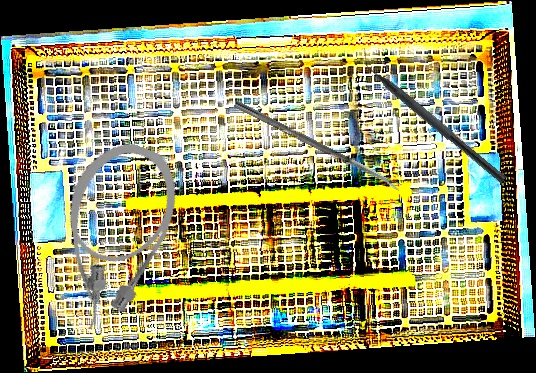Cannula: (27, 129, 195, 343)
Chopper: (351, 46, 515, 184)
Surgical Spoon: (233, 100, 402, 192)
